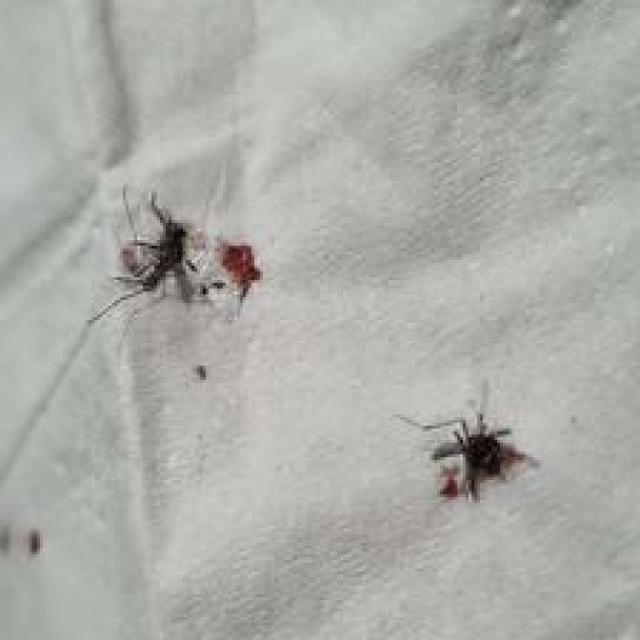Aedes albopictus: (86, 174, 263, 380)
